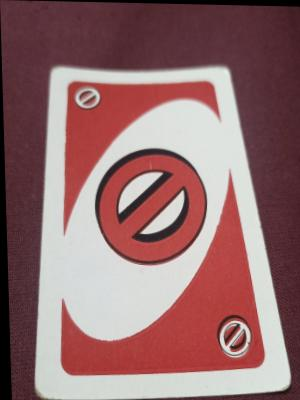skip: (87, 140, 212, 270), (212, 311, 258, 361), (69, 75, 109, 114)
